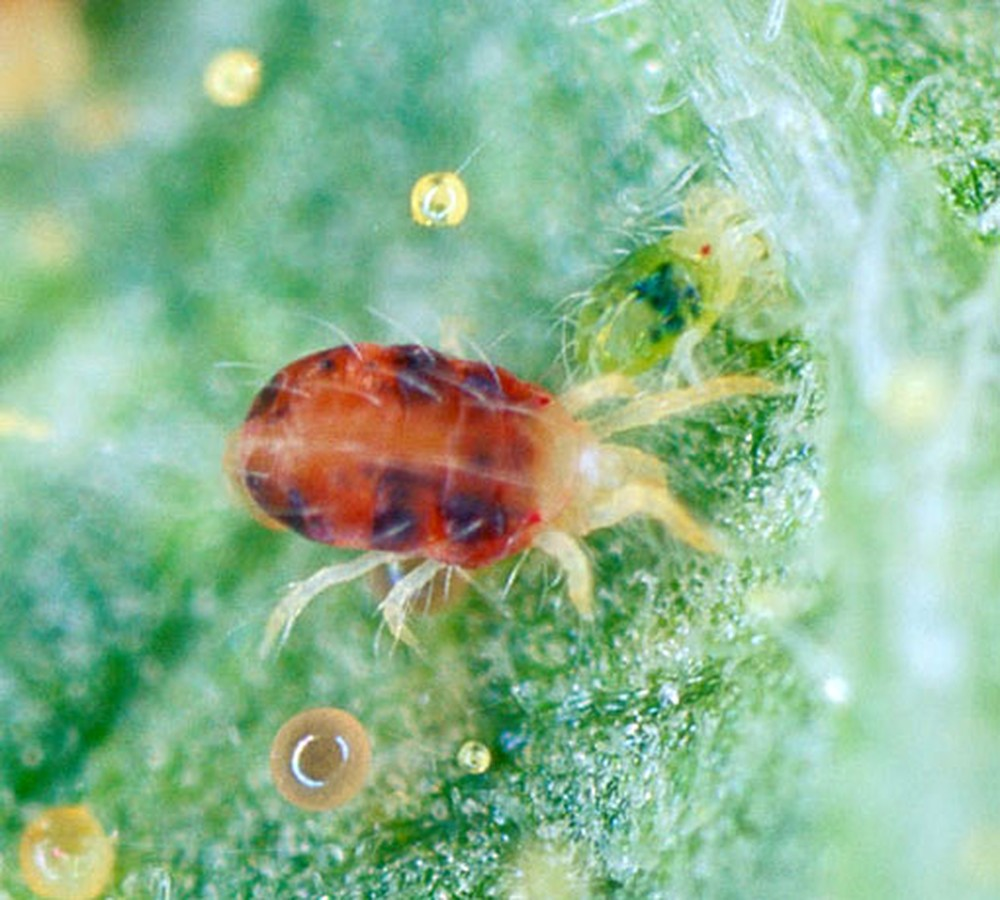Aracnido Rojo: (182, 285, 782, 665), (533, 168, 798, 404)
